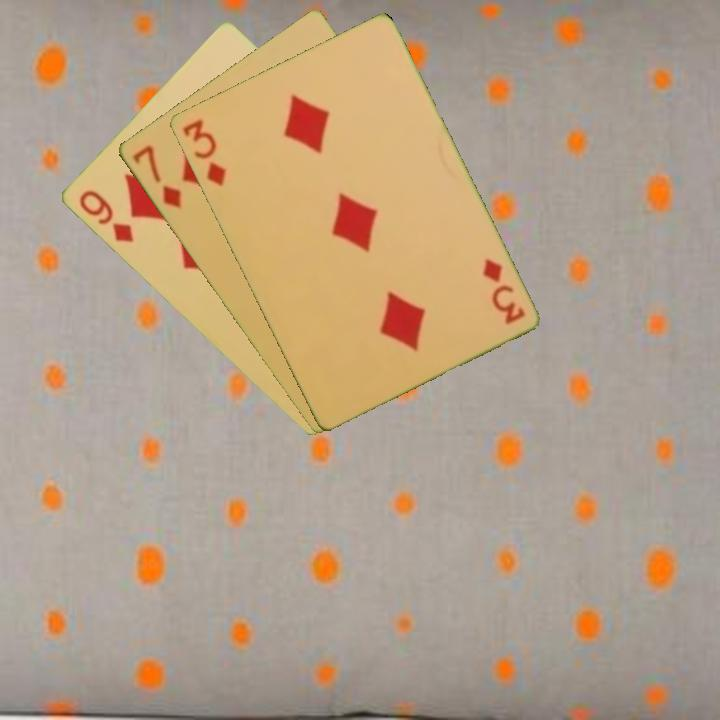3d: (178, 115, 230, 189), (478, 255, 527, 327)
7d: (128, 141, 184, 211)
9d: (75, 186, 136, 246)
